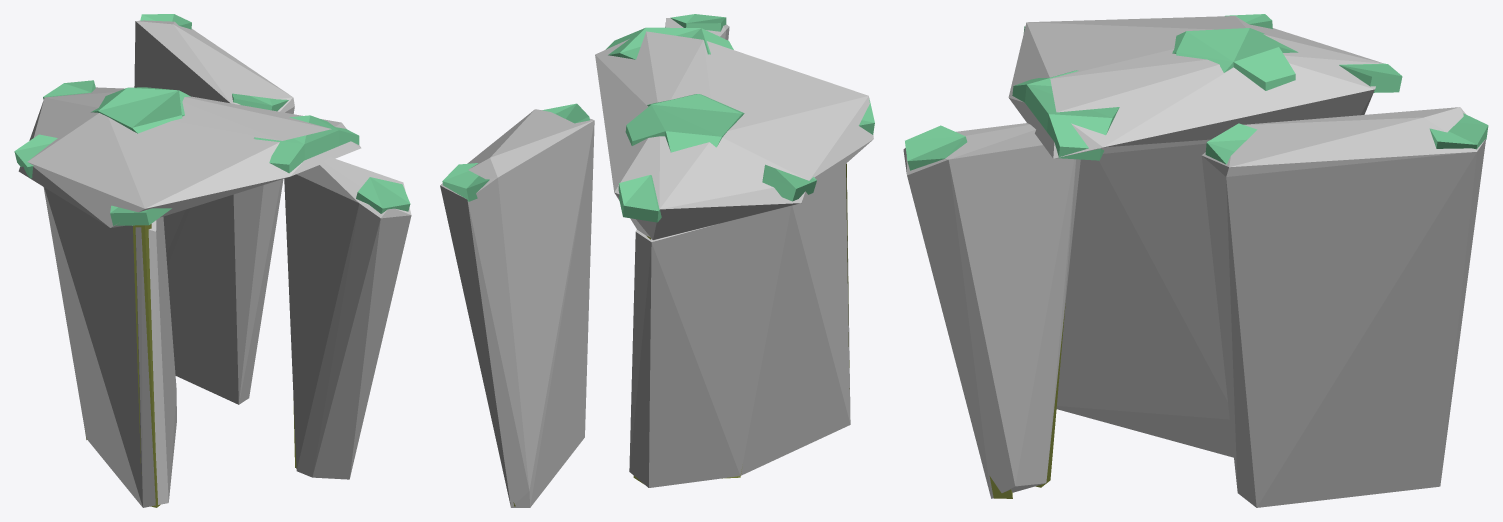
File: SM_Env_Flowers_02.fbx
The picture shows the model from 3 angles, left to right: view 1: azimuth 30°, elevation 25°; view 2: azimuth 150°, elevation 25°; view 3: azimuth 270°, elevation 25°; orthographic projection. The views are drawn at different scales.
Parts seen in each view (by area): view 1: SM_Env_Flowers_02_ConvexHulls, SM_Env_Flowers_02; view 2: SM_Env_Flowers_02_ConvexHulls, SM_Env_Flowers_02; view 3: SM_Env_Flowers_02_ConvexHulls, SM_Env_Flowers_02.
Part boxes in pixels (x1,y1,x2,y2): SM_Env_Flowers_02_ConvexHulls: (18, 20, 411, 507); SM_Env_Flowers_02: (14, 14, 410, 507); SM_Env_Flowers_02_ConvexHulls: (440, 18, 873, 507); SM_Env_Flowers_02: (442, 14, 874, 506); SM_Env_Flowers_02_ConvexHulls: (903, 16, 1485, 507); SM_Env_Flowers_02: (905, 14, 1488, 498).
Bounding box in the file's own units: 63.04 × 99.95 × 75.31.
2 materials, 1 textured.
